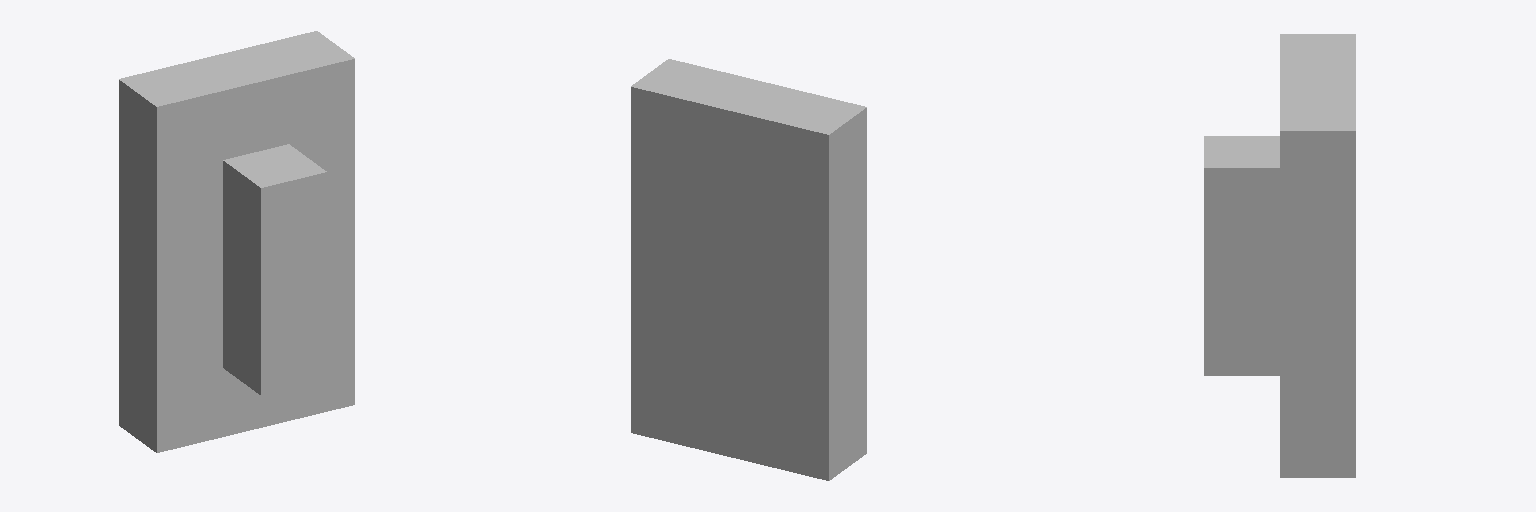
File: switch.obj
The picture shows the model from 3 angles: view 1: azimuth 30°, elevation 25°; view 2: azimuth 150°, elevation 25°; view 3: azimuth 270°, elevation 25°; orthographic projection.
Size of the model in its own units: 3 by 5 by 2.